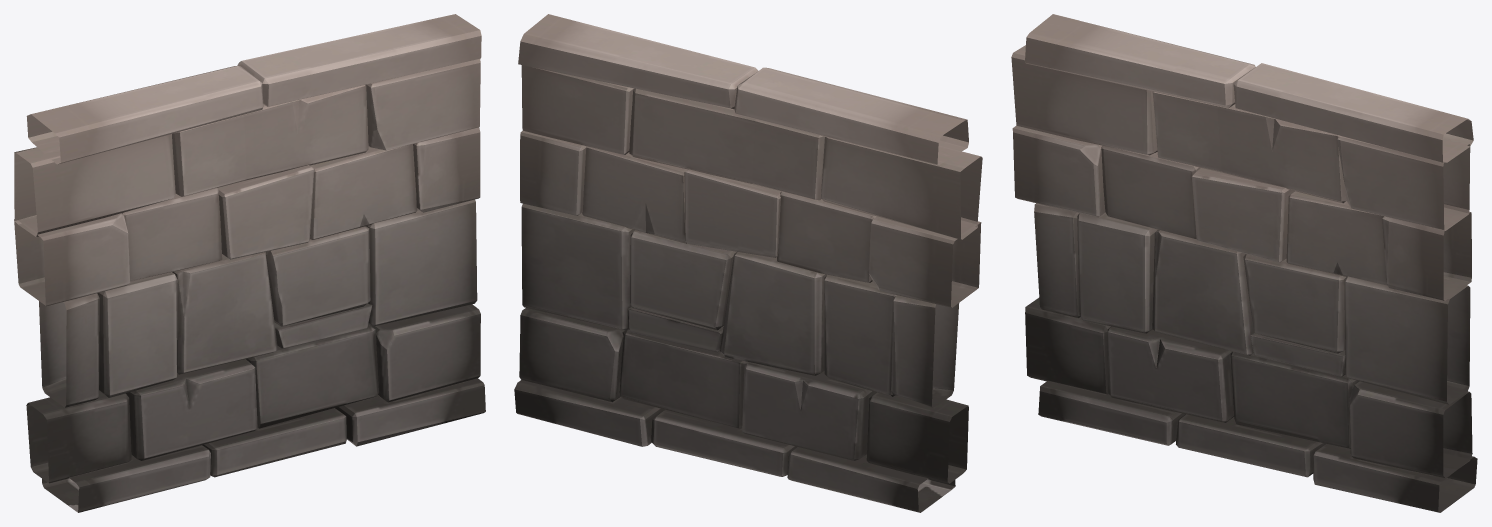
File: wall.glb
The picture shows the model from 3 angles, left to right: view 1: azimuth 30°, elevation 25°; view 2: azimuth 150°, elevation 25°; view 3: azimuth 330°, elevation 25°; orthographic projection.
Parts seen in each view (by area): view 1: Cube.003__0; view 2: Cube.003__0; view 3: Cube.003__0.
Boxes of the visible parts, <box> form: Cube.003__0: <box>14,14,485,512</box>; Cube.003__0: <box>514,14,982,512</box>; Cube.003__0: <box>1011,14,1477,512</box>.
Size of the model in its own units: 2.33 by 1.93 by 0.3617.
1 material, 1 textured.
